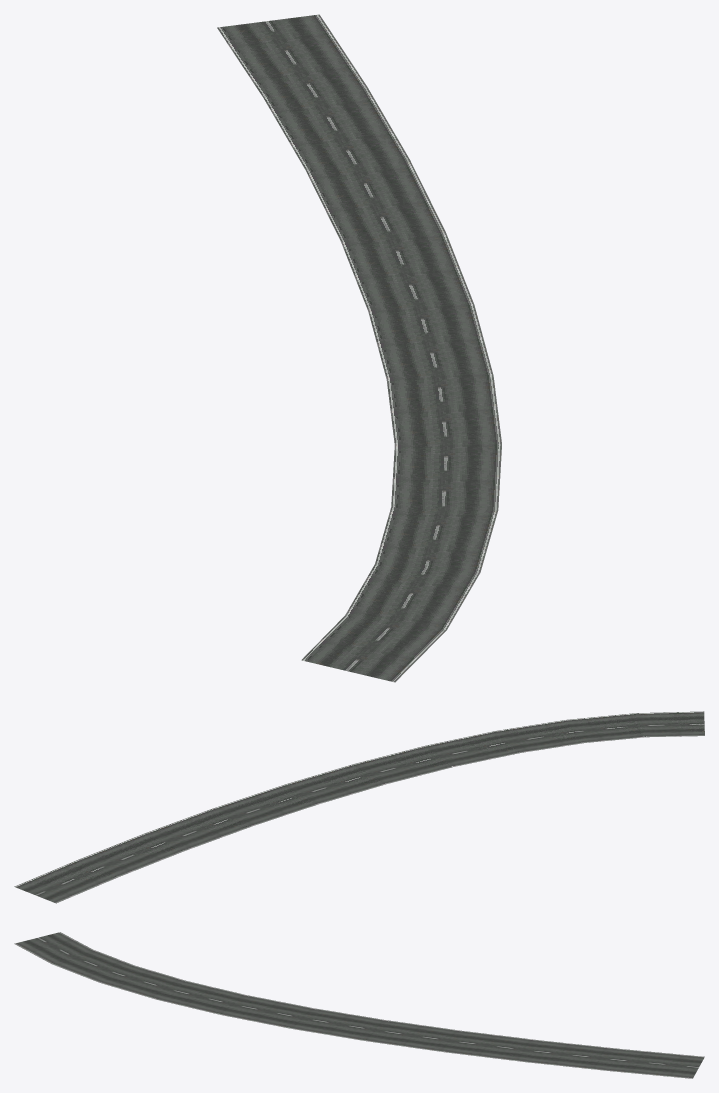
File: lodcuntwroad47.obj
The picture shows the model from 3 angles, top to bottom: view 1: azimuth 30°, elevation 25°; view 2: azimuth 150°, elevation 25°; view 3: azimuth 270°, elevation 25°; orthographic projection. The views are drawn at different scales.
Visible parts, largest first — view 1: LODcuntwroad47; view 2: LODcuntwroad47; view 3: LODcuntwroad47.
Part boxes in pixels (left/top/right/bottom): LODcuntwroad47: left=217, top=14, right=501, bottom=682; LODcuntwroad47: left=14, top=711, right=704, bottom=903; LODcuntwroad47: left=14, top=932, right=704, bottom=1078.
Size of the model in its own units: 84.07 by 2.97 by 155.
Materials: 1 (1 with a texture image).
